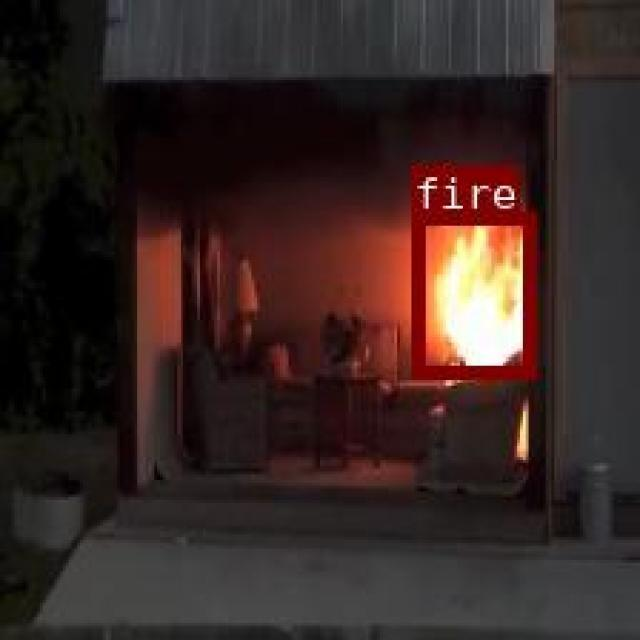fire: (411, 210, 533, 375)
